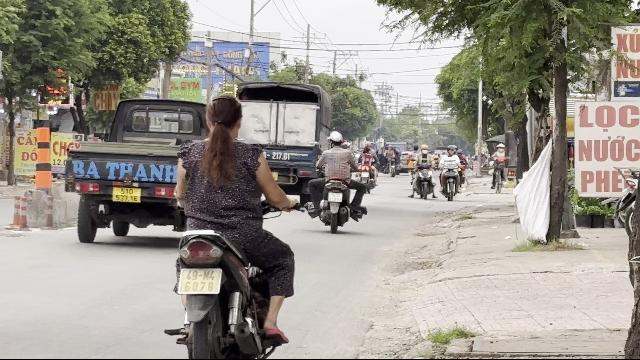licenseplate: (178, 268, 220, 294)
motorcyclist: (164, 93, 302, 357)
nohelmet: (204, 94, 244, 144)
